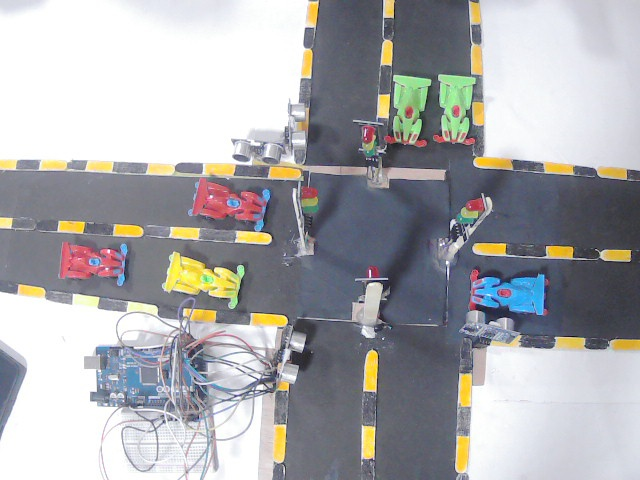car: (479, 268, 571, 327), (53, 240, 139, 292), (435, 68, 484, 141), (166, 261, 252, 302), (190, 184, 258, 231), (394, 71, 431, 150)
traffic_light: (362, 263, 390, 308), (357, 126, 382, 172), (454, 191, 482, 229), (303, 185, 323, 225)
uno_breadboard: (87, 342, 210, 421), (272, 333, 309, 384), (233, 135, 291, 166), (459, 315, 519, 343), (286, 101, 308, 149)
